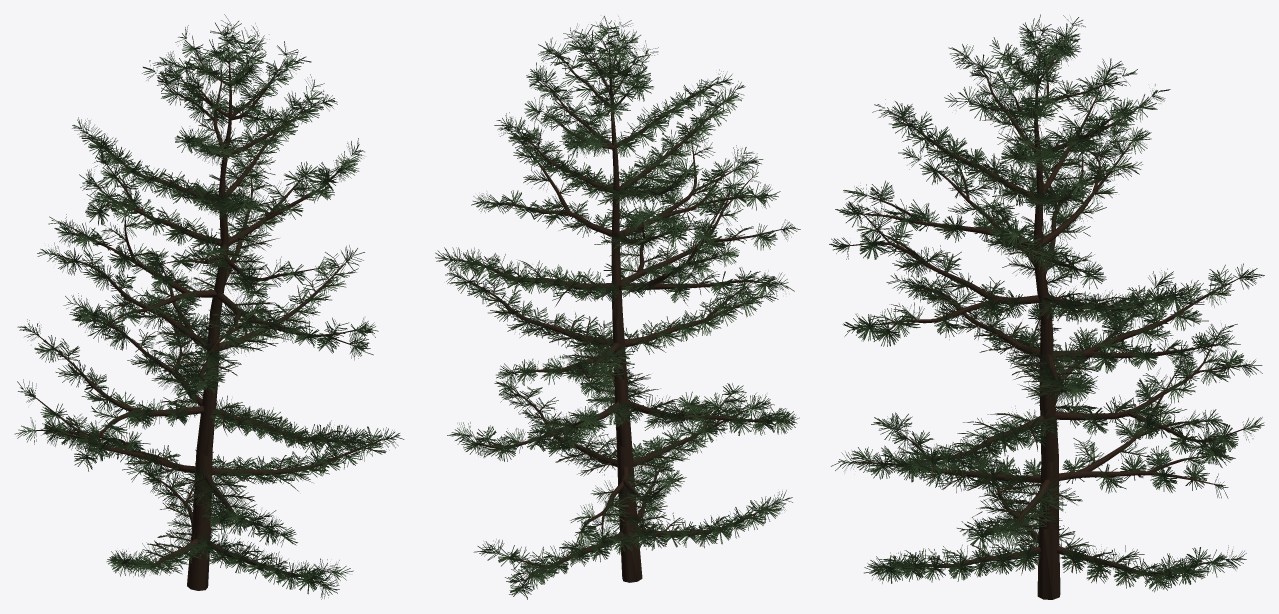
Rendered from pine_b.glb.
3 renders of one model, left to right at view 1: azimuth 30°, elevation 25°; view 2: azimuth 150°, elevation 25°; view 3: azimuth 270°, elevation 25°, orthographic. The views are drawn at different scales.
Parts seen in each view (by area): view 1: Kiefer_tree.006_Baumstamm_0; view 2: Kiefer_tree.006_Baumstamm_0; view 3: Kiefer_tree.006_Baumstamm_0.
Part boxes in pixels (bbox=[...]): Kiefer_tree.006_Baumstamm_0: bbox=[14, 14, 404, 599]; Kiefer_tree.006_Baumstamm_0: bbox=[435, 16, 800, 599]; Kiefer_tree.006_Baumstamm_0: bbox=[829, 14, 1264, 599].
Bounding box in the file's own units: 8.16 × 13 × 8.65.
